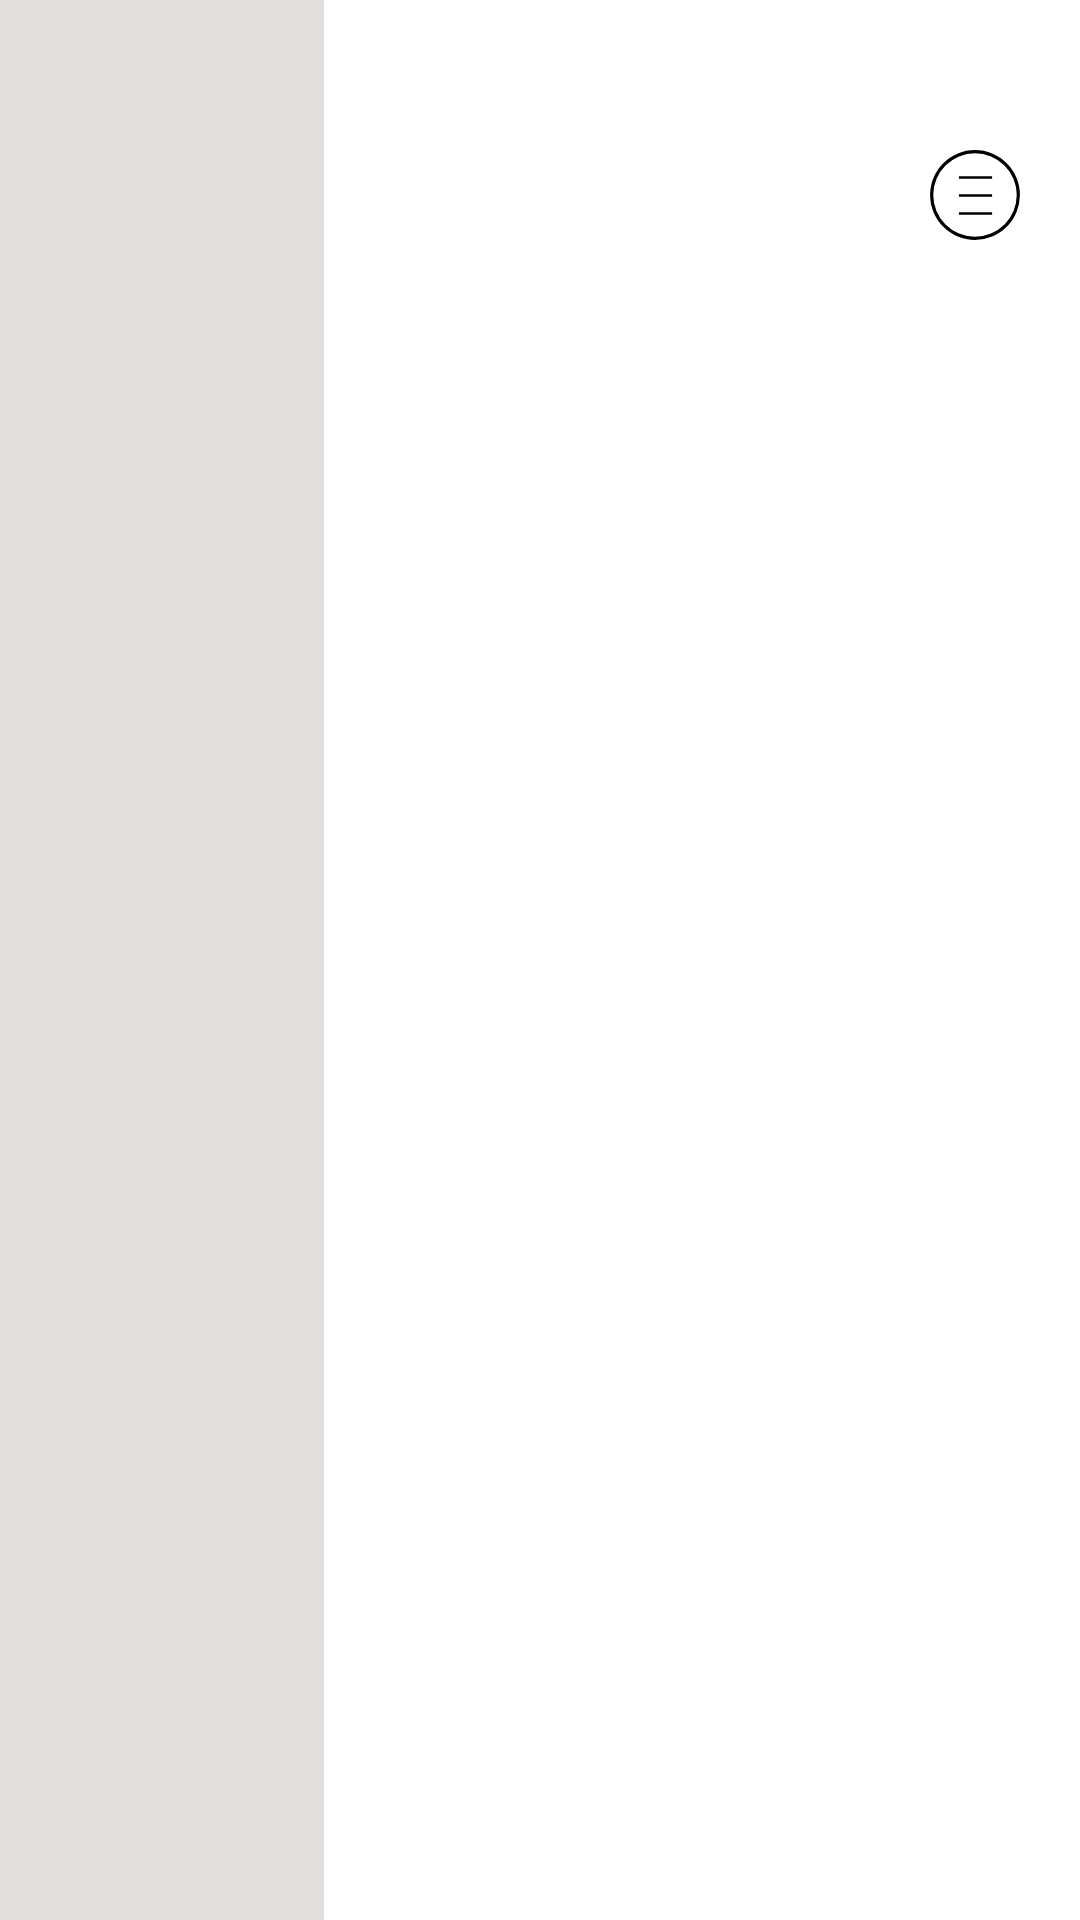

Icon click points for this 1080w x 1920h phone screenshot, format point (x, y):
menu: point (975, 195)
